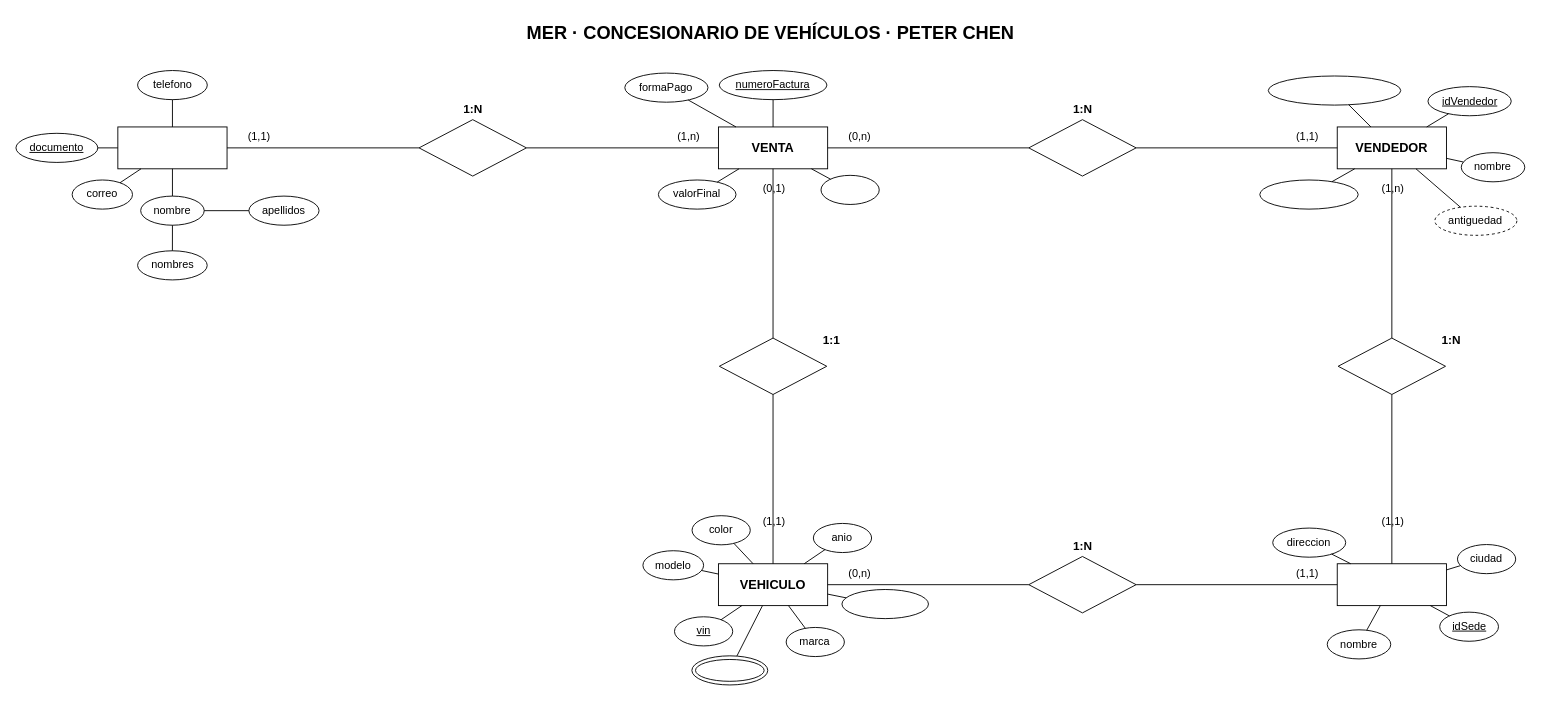
This 1542x701 diagram has some shape labels left out. Each missing label, with the centre of its shape:
"accesorio" belongs at [729,670].
"CLIENTE" belongs at [172,147].
"comprar" belongs at [472,147].
"exhibir" belongs at [1082,584].
"fecha" belongs at [849,189].
"fechaIngreso" belongs at [1308,194].
"porcentajeComision" belongs at [1334,90].
"precioLista" belongs at [884,604].
"realizar" belongs at [1082,147].
"registrar" belongs at [772,365].
"SEDE" belongs at [1391,584].
"trabajar" belongs at [1391,365].
